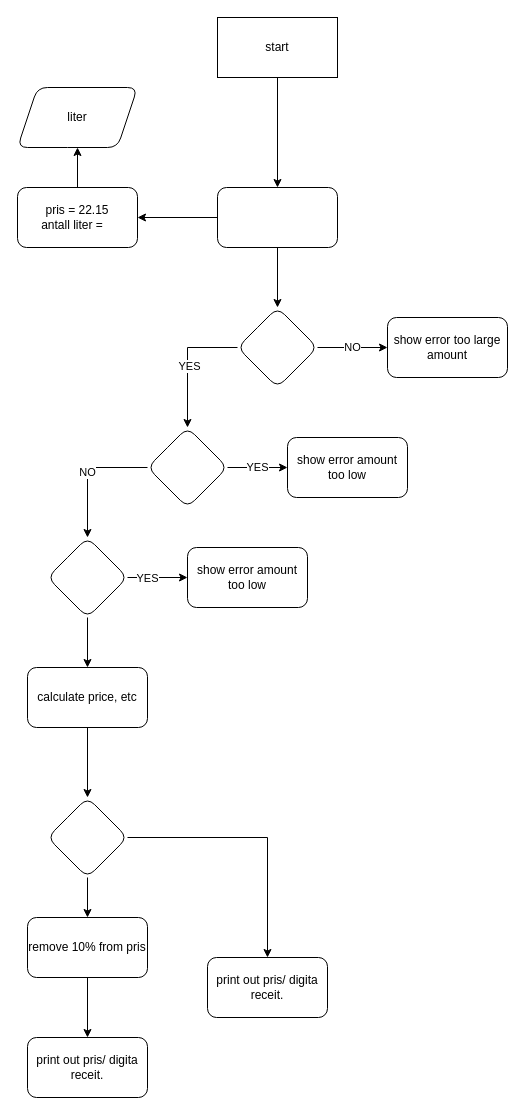
Some shapes in this 525 by 1115 pixel diagram are drawn without their labels. The shapes that lost their labels are listed below. From the top down, each one's box as (x1, y1, x2, y2) in pixels, then its label:
(216, 186, 338, 248): make variable = liter make variable = pris
(236, 306, 318, 388): if under 80L
(146, 426, 228, 508): if under 5L
(46, 536, 128, 618): if under 0
(46, 796, 128, 878): if over 50
